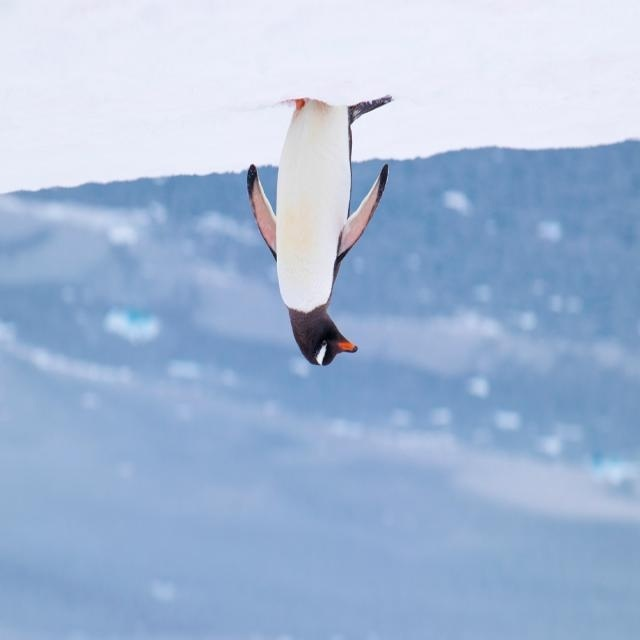penguin: (248, 96, 388, 368)
